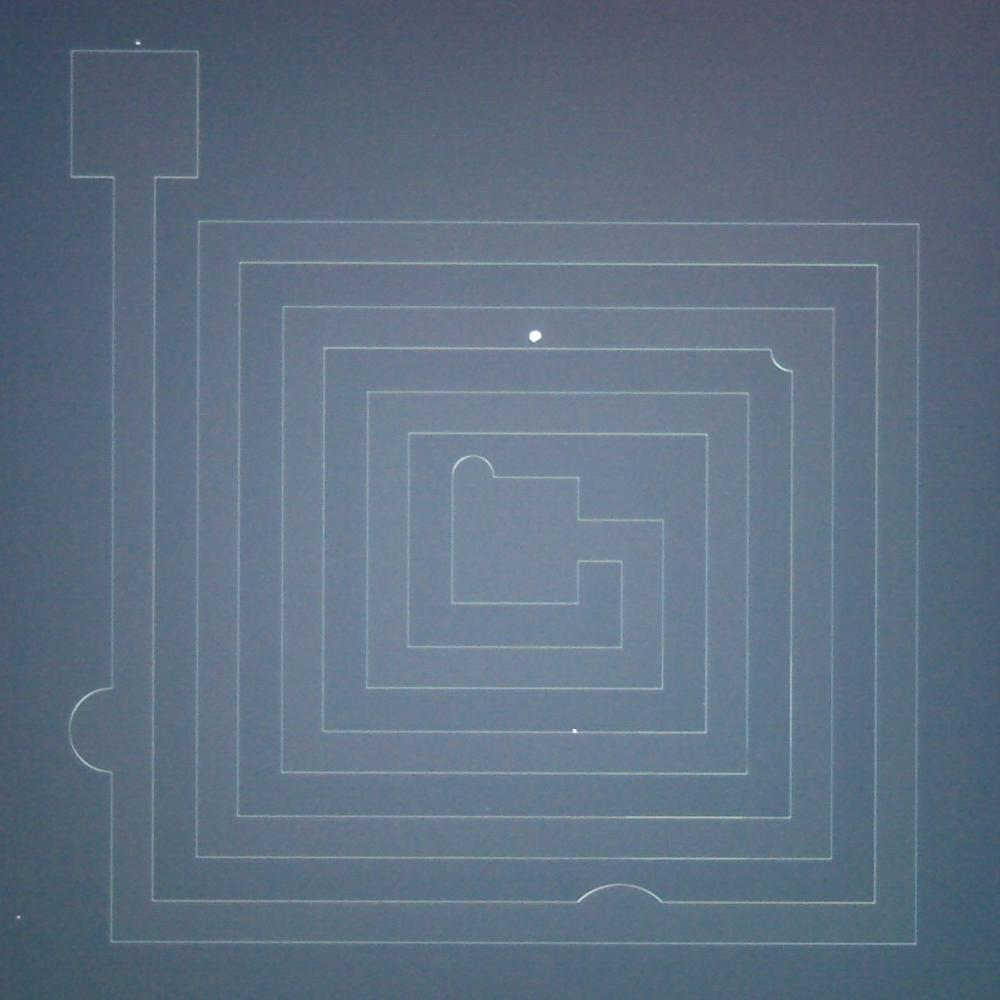dot: (529, 330, 542, 344), (136, 40, 141, 45), (572, 728, 577, 733), (17, 915, 21, 919)
